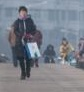person: (11, 5, 40, 79), (8, 26, 20, 68), (30, 25, 41, 67), (59, 37, 74, 66), (43, 43, 57, 64), (76, 38, 84, 69)
